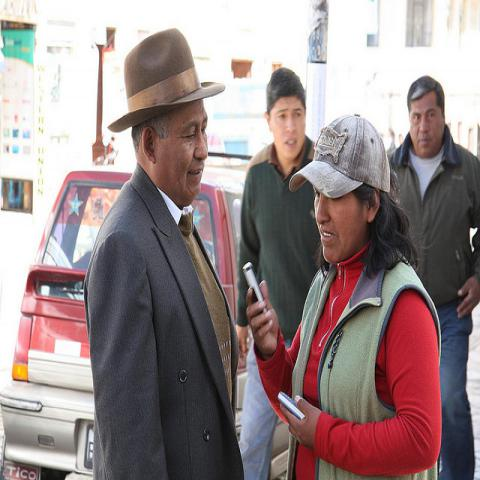car: (3, 170, 292, 474)
